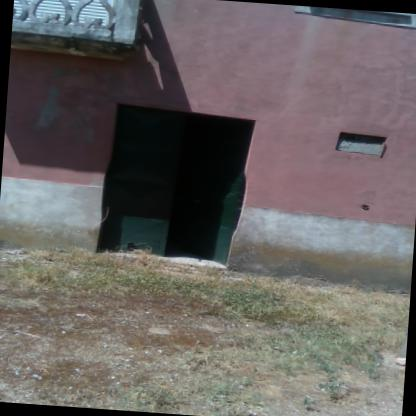open: (92, 90, 266, 274)
